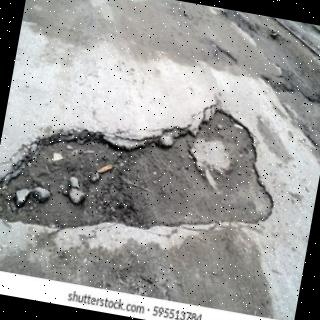pothole: (0, 107, 274, 231)
